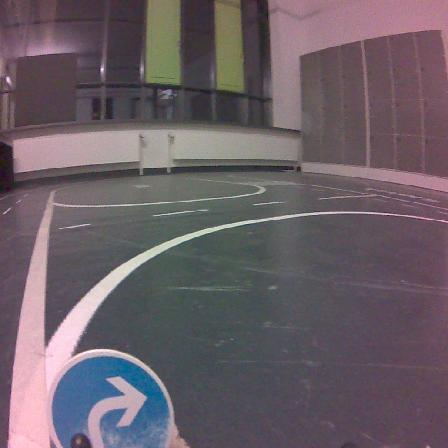RIGHT_TURN: (48, 350, 173, 447)
